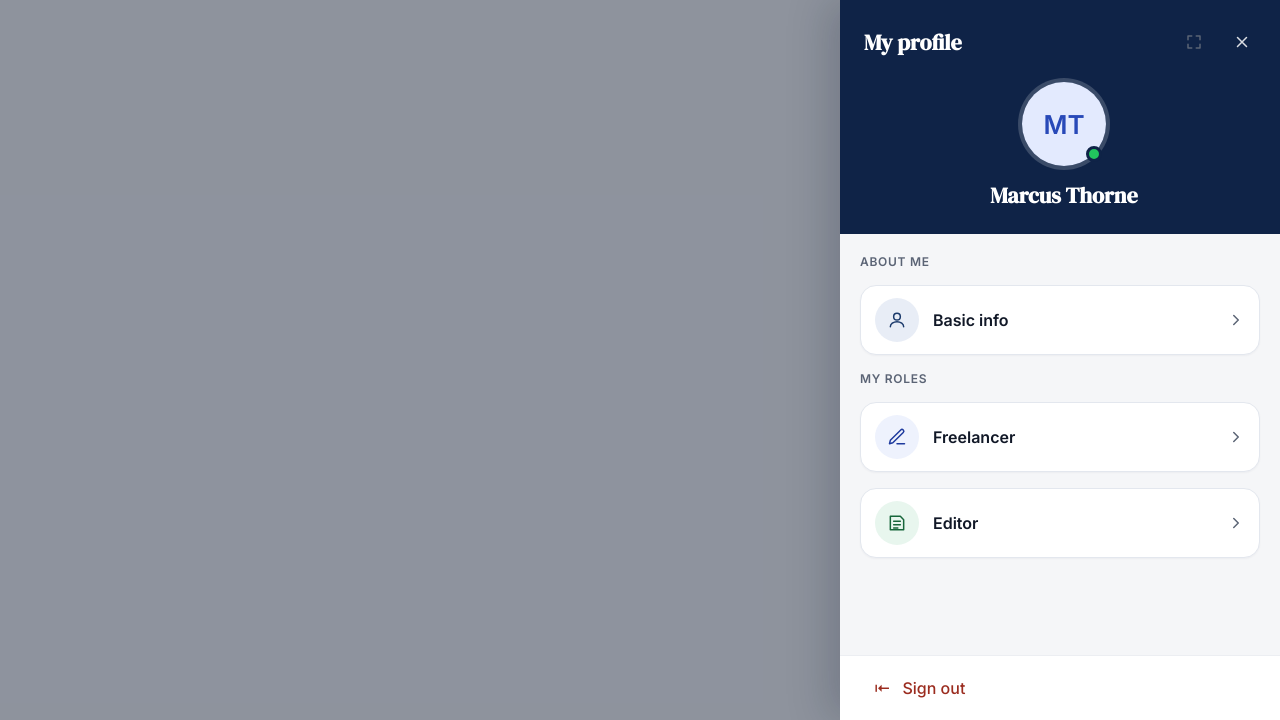
Test: ProfilePanel › closing the role drawer goes back to My profile
Click the button with aria-label "Open Editor details" at (897, 523), box x1=860 y1=488 x2=1260 y2=558
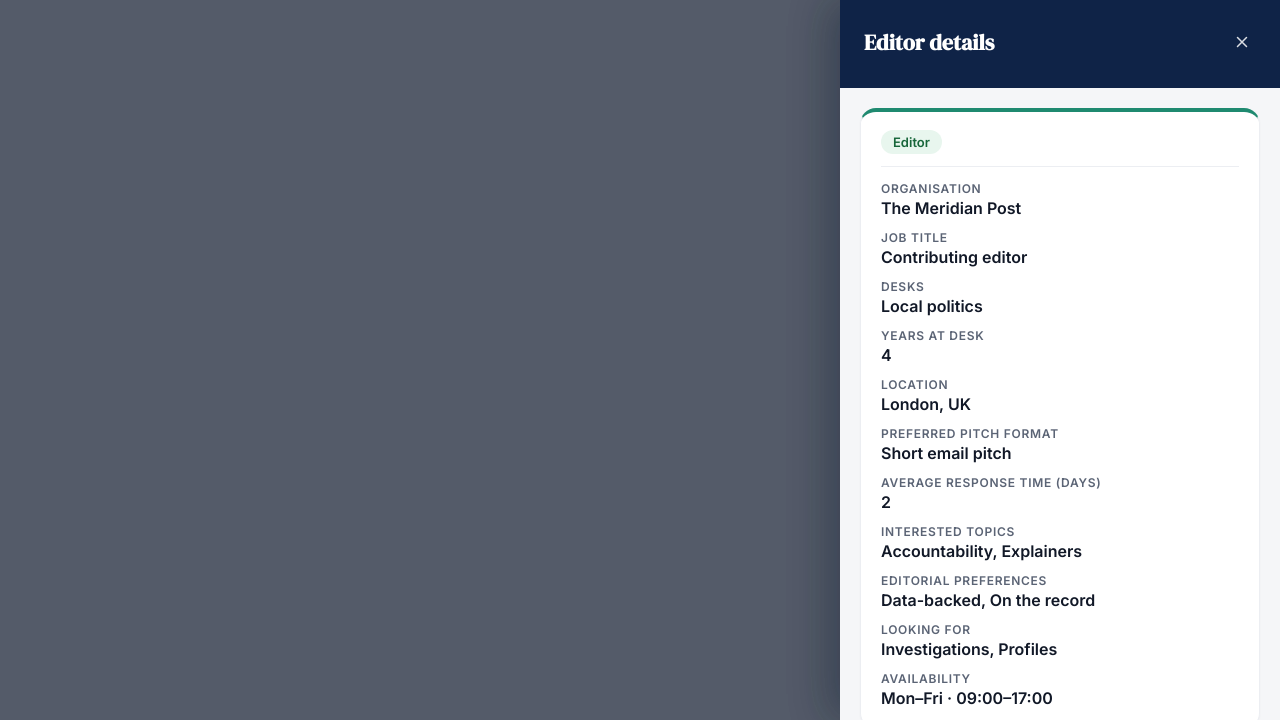
Press Escape
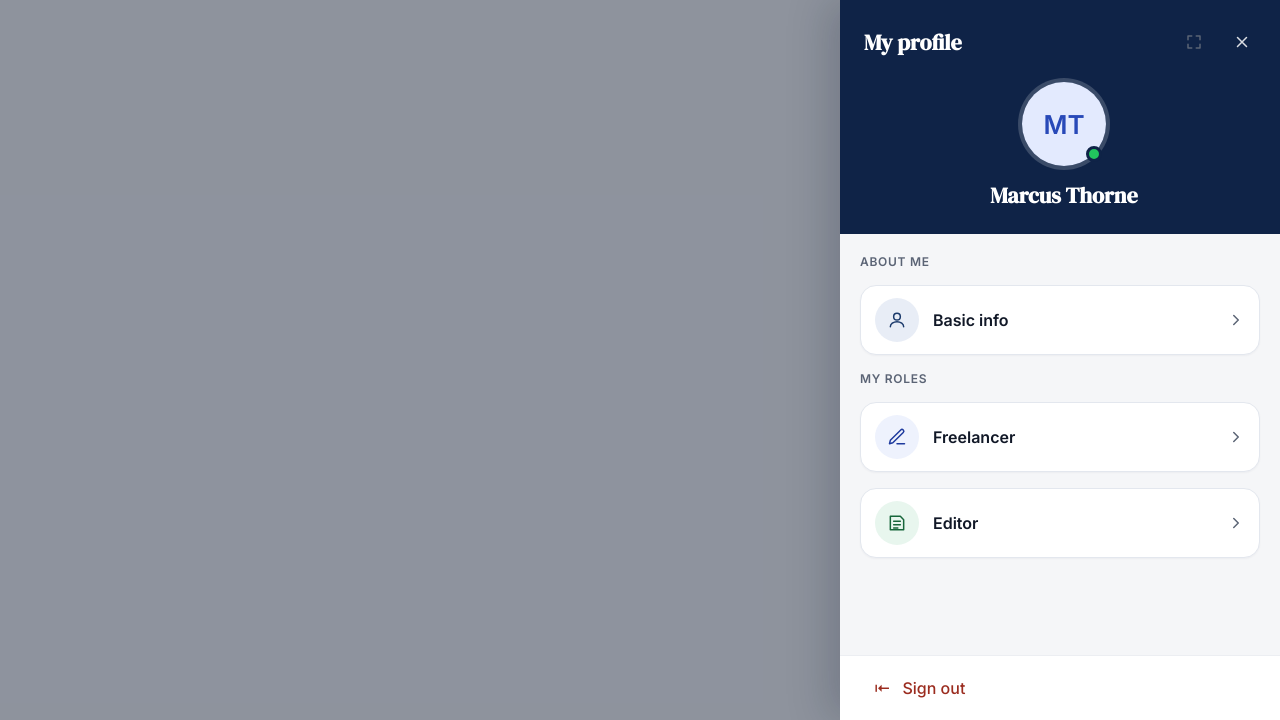
Check: the dialog "My profile" is shown, box x1=840 y1=0 x2=1279 y2=719
Check: the heading "Editor details" is gone
